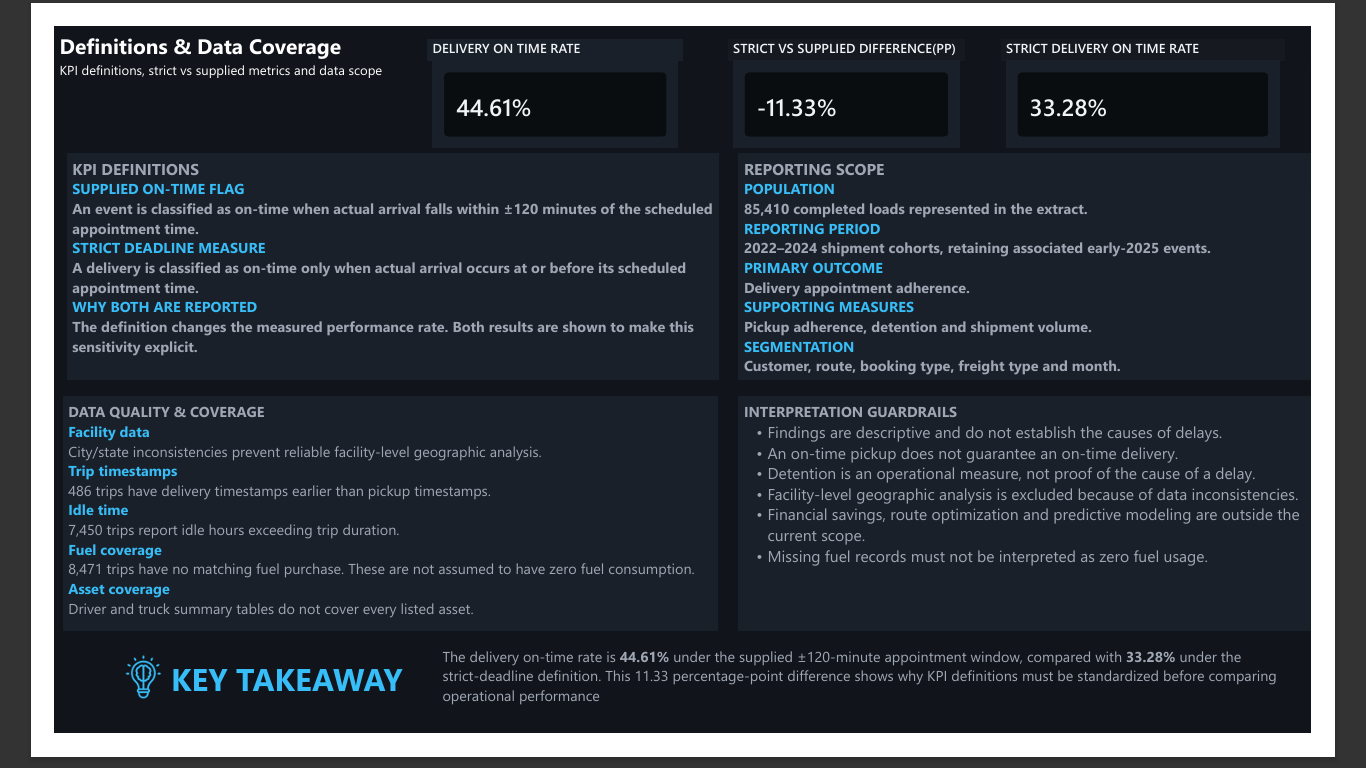

This screenshot's page, from the dashboard's own definition file:
{"tool":"powerbi","page":{"name":"DEFINITIONS AND DATA COVERAGE","canvas":[1280,720],"ordinal":2},"visuals":[{"type":"textbox","box":[0,0,365.7,71.4],"z":0},{"type":"textbox","box":[21.4,337.1,198.6,201.4],"z":1000},{"type":"textbox","box":[21,549,281,171],"z":2000},{"type":"textbox","box":[12.9,128.6,662.9,231.4],"z":3000},{"type":"cardVisual","title":"STRICT VS SUPPLIED DIFFERENCE(PP)","fields":{"Data":["delivery_events.Strict vs Supplied Difference"]},"box":[685.7,12.9,241.4,115.7],"z":4000},{"type":"cardVisual","title":"DELIVERY ON TIME RATE","fields":{"Data":["delivery_events.Delivery On-Time Rate"]},"box":[380,12.9,260,115.7],"z":5000},{"type":"cardVisual","title":"STRICT DELIVERY ON TIME RATE","fields":{"Data":["delivery_events.Strict Delivery On-Time Rate"]},"box":[964.3,12.9,288.6,115.7],"z":6000},{"type":"textbox","box":[697.1,128.6,582.9,231.4],"z":7000},{"type":"textbox","box":[8.6,377.1,667.1,238.6],"z":8000},{"type":"textbox","box":[697,377,583,239],"z":9000},{"type":"textbox","box":[47.1,637.1,332.9,71.4],"z":10000},{"type":"image","box":[47.1,638.6,85.7,47.1],"z":11000},{"type":"textbox","box":[390,625.7,862.9,70],"z":12000}]}

Visuals, with their boxes in screenshot pixels (x1, y1, x2, y2), scaled from the page's 1280x720 canvas onto the 1366x768 screenshot:
textbox: 0 0 390 76
textbox: 23 360 235 574
textbox: 22 586 322 767
textbox: 14 137 721 384
"STRICT VS SUPPLIED DIFFERENCE(PP)" cardVisual: 732 14 989 137
"DELIVERY ON TIME RATE" cardVisual: 406 14 683 137
"STRICT DELIVERY ON TIME RATE" cardVisual: 1029 14 1337 137
textbox: 744 137 1365 384
textbox: 9 402 721 657
textbox: 744 402 1365 657
textbox: 50 680 406 756
image: 50 681 142 731
textbox: 416 667 1337 742
